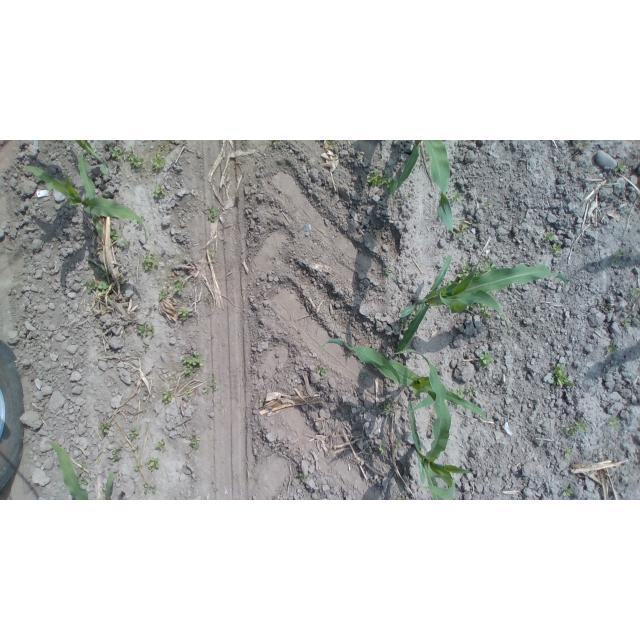Maize: (398, 254, 568, 353), (319, 339, 490, 425), (395, 349, 478, 500), (20, 152, 149, 241), (387, 141, 465, 240), (46, 439, 124, 500), (74, 141, 108, 200)
Weeds: (108, 145, 149, 172), (546, 363, 574, 387), (367, 171, 398, 190), (183, 351, 204, 375), (562, 418, 586, 436), (143, 249, 160, 272), (478, 350, 494, 369), (457, 263, 472, 283), (152, 151, 166, 171), (477, 301, 491, 319), (137, 324, 155, 337), (152, 183, 166, 199), (611, 250, 624, 266), (173, 278, 185, 295), (383, 401, 397, 415), (207, 206, 218, 222), (112, 445, 123, 461), (480, 261, 497, 271), (178, 308, 191, 321), (450, 190, 463, 203), (316, 364, 328, 377), (85, 280, 97, 293), (148, 458, 160, 471), (609, 415, 620, 429), (452, 386, 464, 398), (158, 288, 170, 300), (607, 340, 618, 353), (78, 475, 89, 488), (109, 228, 119, 242), (162, 391, 172, 405), (615, 161, 626, 172), (545, 231, 556, 242), (98, 422, 110, 432), (210, 377, 218, 392), (191, 437, 200, 450), (99, 279, 110, 289), (552, 243, 563, 253), (465, 385, 475, 395), (461, 221, 470, 232), (562, 487, 573, 496), (209, 249, 216, 263), (155, 442, 165, 451), (130, 427, 139, 437), (564, 449, 573, 459), (116, 275, 124, 286), (299, 474, 308, 483), (631, 288, 640, 297), (107, 295, 114, 306), (378, 444, 386, 453), (401, 317, 408, 327), (185, 387, 192, 397), (482, 201, 493, 207), (465, 303, 476, 309), (360, 372, 368, 380), (120, 241, 129, 248), (270, 141, 278, 148), (385, 269, 393, 276), (81, 460, 87, 469), (623, 319, 630, 326), (408, 317, 414, 325), (144, 482, 148, 494), (142, 342, 148, 350), (474, 271, 482, 277), (396, 440, 401, 449), (328, 140, 335, 146), (87, 263, 94, 269), (605, 306, 613, 311), (202, 388, 208, 394), (406, 193, 411, 199), (134, 466, 140, 471), (152, 488, 156, 495), (140, 216, 145, 220), (448, 281, 453, 285), (133, 446, 137, 450), (591, 171, 594, 174), (397, 498, 400, 500)
